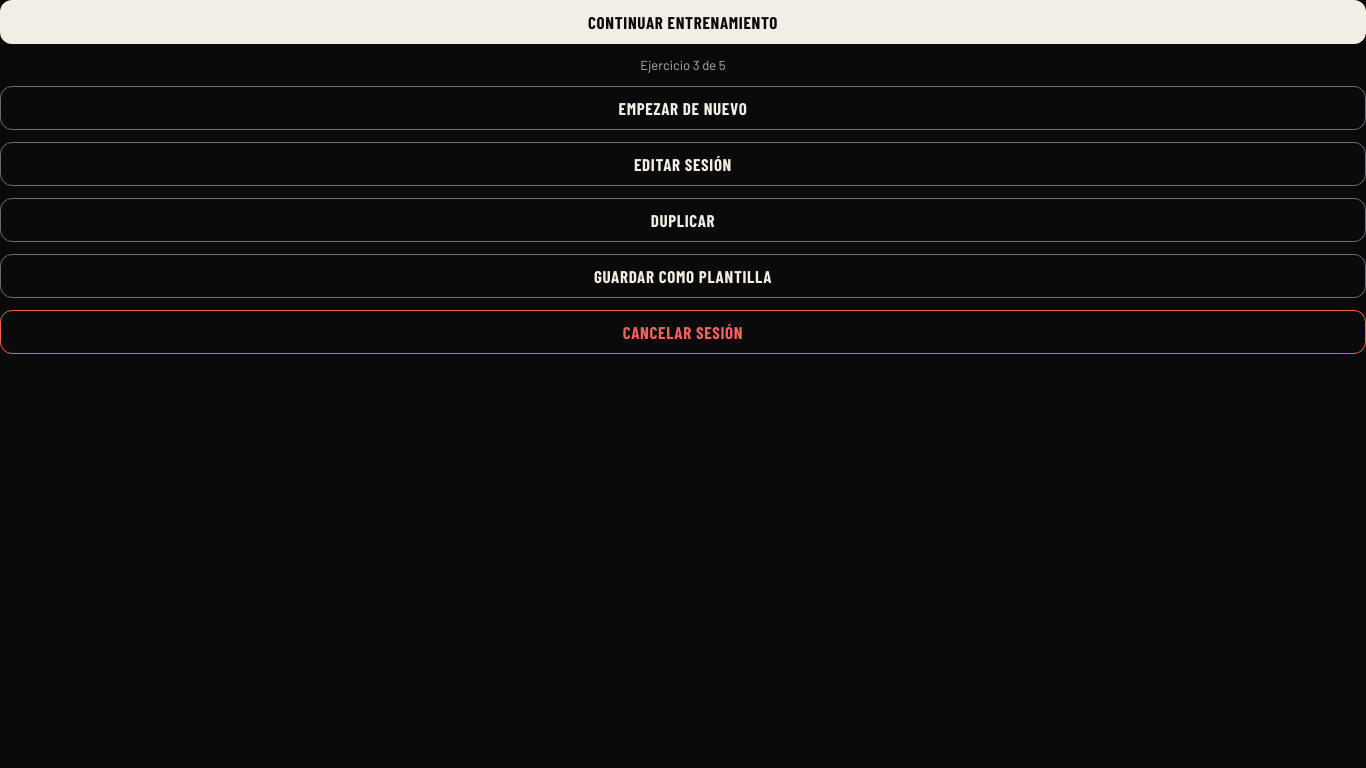
Test: PracticeActions · continuar entrenamiento › si reiniciar falla, lo dice y no borra lo del dispositivo
The width and height of the screenshot is (1366, 768).
Click the button "Empezar de nuevo" at (683, 108), box [0,86,1365,130]
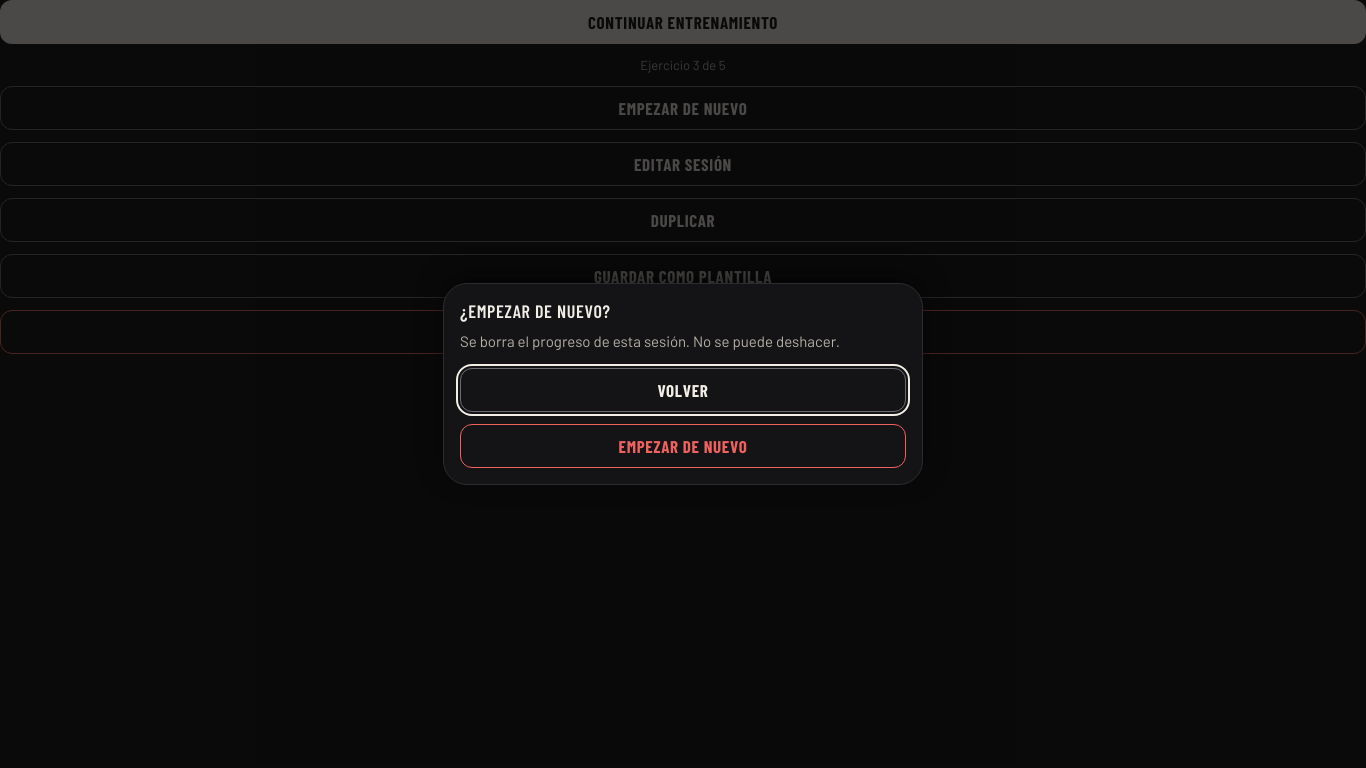
Click the button "Empezar de nuevo" at (683, 446), box [460,424,906,468]
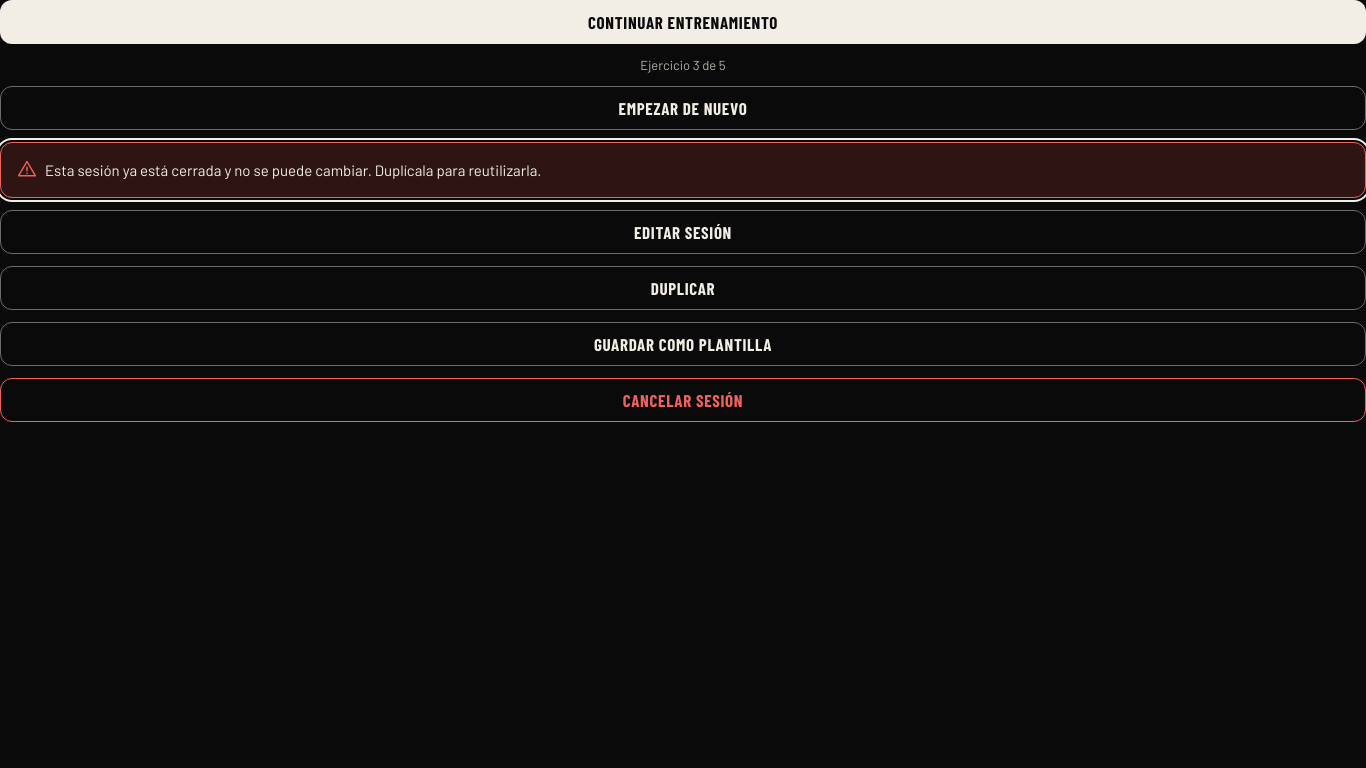
expect the text "Esta sesión ya está cerrada y no se puede cambiar. Duplícala para reutilizarla." is shown: met, box [17,159,542,179]
